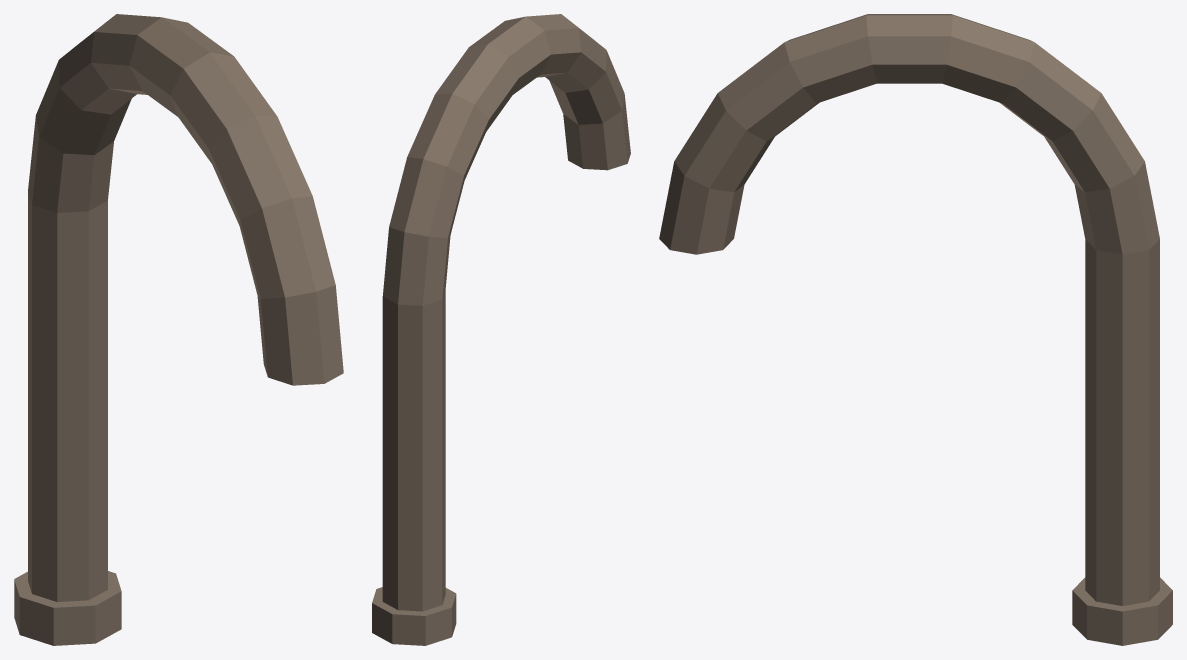
File: Plumbing1_C3_01.fbx
3 views of the same model, side by side, from view 1: azimuth 30°, elevation 25°; view 2: azimuth 150°, elevation 25°; view 3: azimuth 270°, elevation 25° (orthographic). The views are drawn at different scales.
Visible parts, largest first — view 1: Plumbing1_C3_01; view 2: Plumbing1_C3_01; view 3: Plumbing1_C3_01.
Part boxes in pixels (bbox=[...]): Plumbing1_C3_01: bbox=[14, 14, 343, 645]; Plumbing1_C3_01: bbox=[372, 14, 630, 645]; Plumbing1_C3_01: bbox=[659, 14, 1172, 645].
Size of the model in its own units: 2.63 by 17.59 by 13.44.
